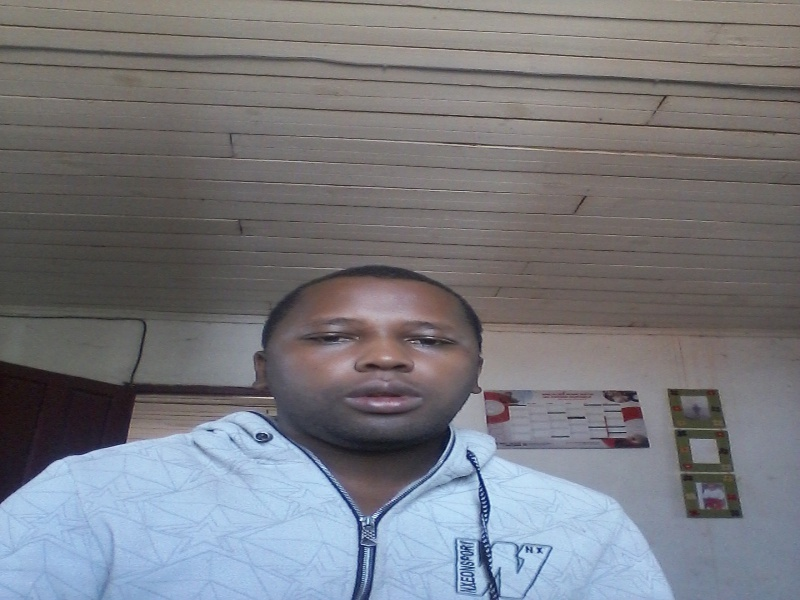TsisyArotava: (245, 251, 524, 455)
